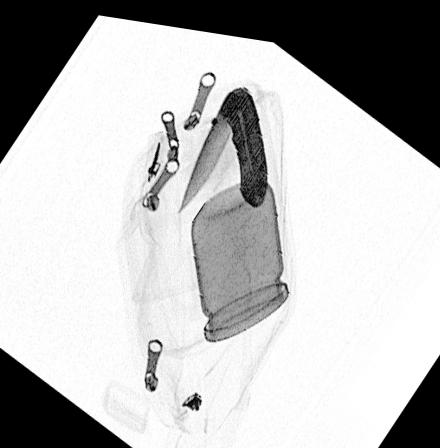Knife: (176, 78, 270, 213)
